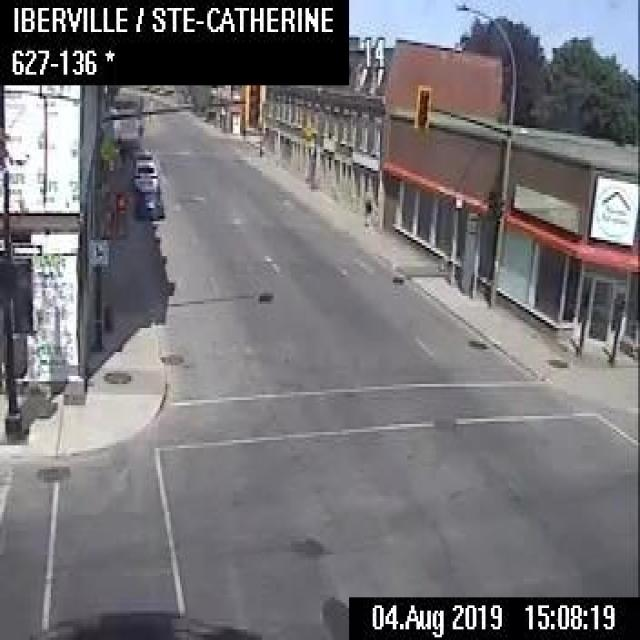vehicle: (0, 602, 267, 637), (130, 156, 158, 190), (136, 187, 162, 217), (132, 148, 156, 163)
